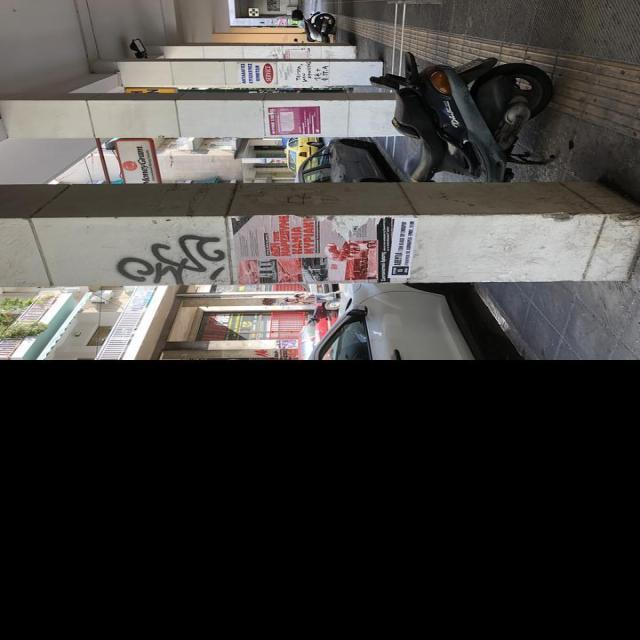nonspitting: (117, 234, 226, 286)
